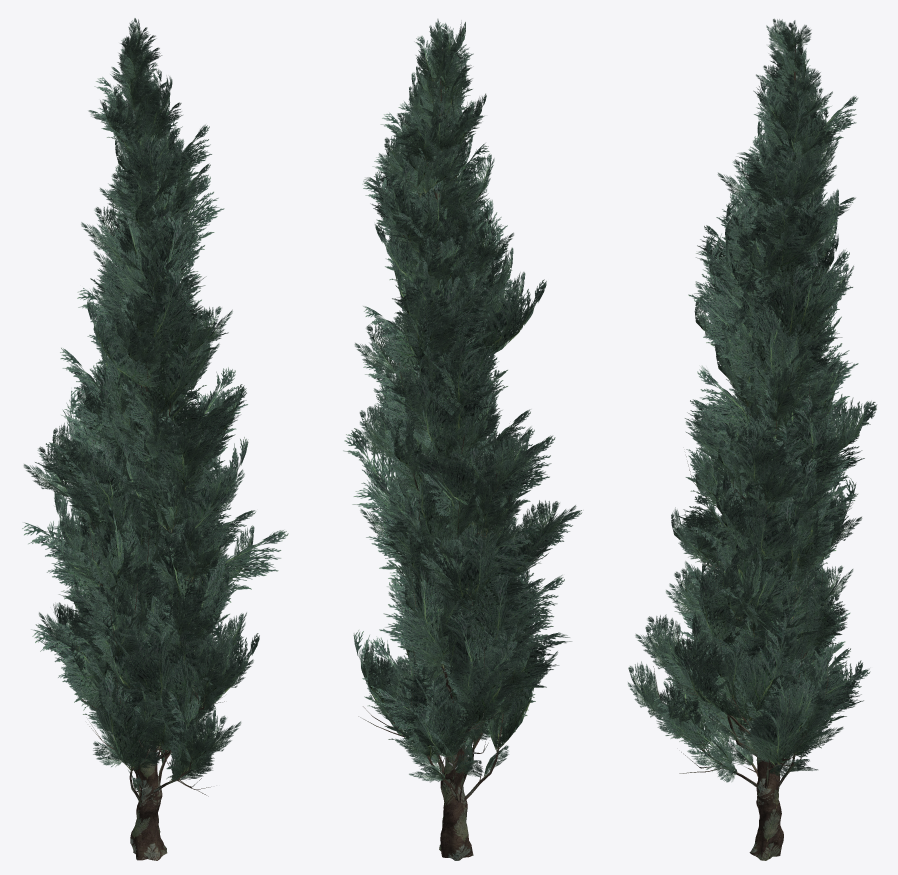
File: cypress_tree.glb
3 views of the same model, side by side, from view 1: azimuth 30°, elevation 25°; view 2: azimuth 150°, elevation 25°; view 3: azimuth 270°, elevation 25° (orthographic). The views are drawn at different scales.
Parts seen in each view (by area): view 1: Cypress_V2_test_Cypress_2_sided_0, Cypress_V2_test_Cypress_bark_0; view 2: Cypress_V2_test_Cypress_2_sided_0, Cypress_V2_test_Cypress_bark_0; view 3: Cypress_V2_test_Cypress_2_sided_0, Cypress_V2_test_Cypress_bark_0.
Boxes of the visible parts, x1,y1,x2,y2 form: Cypress_V2_test_Cypress_2_sided_0: [22, 18, 288, 794]; Cypress_V2_test_Cypress_bark_0: [69, 62, 242, 860]; Cypress_V2_test_Cypress_2_sided_0: [343, 19, 582, 782]; Cypress_V2_test_Cypress_bark_0: [358, 49, 527, 860]; Cypress_V2_test_Cypress_2_sided_0: [628, 18, 877, 782]; Cypress_V2_test_Cypress_bark_0: [653, 46, 839, 860].
Bounding box in the file's own units: 1.66 × 5.31 × 1.49.
3 materials, 2 textured.
